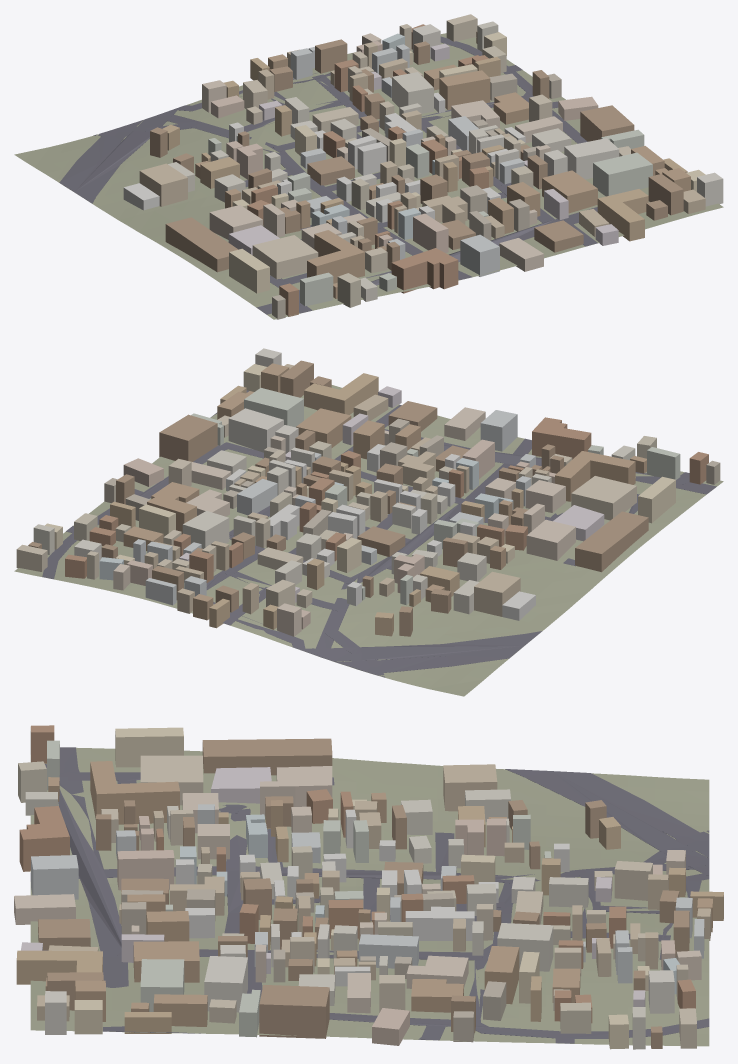
Rendered from chunk_9_2.glb.
3 renders of one model, top to bottom at view 1: azimuth 30°, elevation 25°; view 2: azimuth 150°, elevation 25°; view 3: azimuth 270°, elevation 25°, orthographic. The views are drawn at different scales.
Parts seen in each view (by area): view 1: geometry_255, geometry_31, geometry_30, geometry_23, geometry_12, geometry_11, geometry_24, geometry_266, geometry_75, geometry_158, geometry_279, geometry_5 (+58 smaller); view 2: geometry_255, geometry_31, geometry_266, geometry_8, geometry_23, geometry_279, geometry_11, geometry_24, geometry_259, geometry_249, geometry_30, geometry_7 (+45 smaller); view 3: geometry_255, geometry_260, geometry_31, geometry_8, geometry_23, geometry_266, geometry_279, geometry_265, geometry_24, geometry_32, geometry_30, geometry_11 (+104 smaller).
Part boxes in pixels (<box>): geometry_255: <box>14,33,723,319</box>; geometry_31: <box>165,217,237,272</box>; geometry_30: <box>391,248,458,293</box>; geometry_23: <box>307,230,364,283</box>; geometry_12: <box>593,152,652,196</box>; geometry_11: <box>252,235,318,279</box>; geometry_24: <box>597,189,648,241</box>; geometry_266: <box>75,130,149,203</box>; geometry_75: <box>439,70,490,109</box>; geometry_158: <box>139,163,187,206</box>; geometry_279: <box>59,120,143,193</box>; geometry_5: <box>542,170,597,213</box>; geometry_255: <box>14,385,723,696</box>; geometry_31: <box>575,511,648,572</box>; geometry_266: <box>359,631,541,660</box>; geometry_8: <box>159,414,217,461</box>; geometry_23: <box>555,451,635,501</box>; geometry_279: <box>335,644,526,672</box>; geometry_11: <box>571,476,636,520</box>; geometry_24: <box>304,373,378,414</box>; geometry_259: <box>323,463,515,631</box>; geometry_249: <box>228,408,283,452</box>; geometry_30: <box>532,417,591,459</box>; geometry_7: <box>526,519,575,560</box>; geometry_255: <box>30,747,709,1046</box>; geometry_260: <box>58,747,128,1031</box>; geometry_31: <box>202,738,332,775</box>; geometry_8: <box>259,985,329,1038</box>; geometry_23: <box>90,761,179,824</box>; geometry_266: <box>505,769,686,851</box>; geometry_279: <box>546,770,709,857</box>; geometry_265: <box>247,953,709,1038</box>; geometry_24: <box>16,950,102,984</box>; geometry_32: <box>115,727,183,767</box>; geometry_30: <box>19,806,69,871</box>; geometry_11: <box>140,755,203,805</box>.
Size of the model in its own units: 255 by 27.76 by 262.
